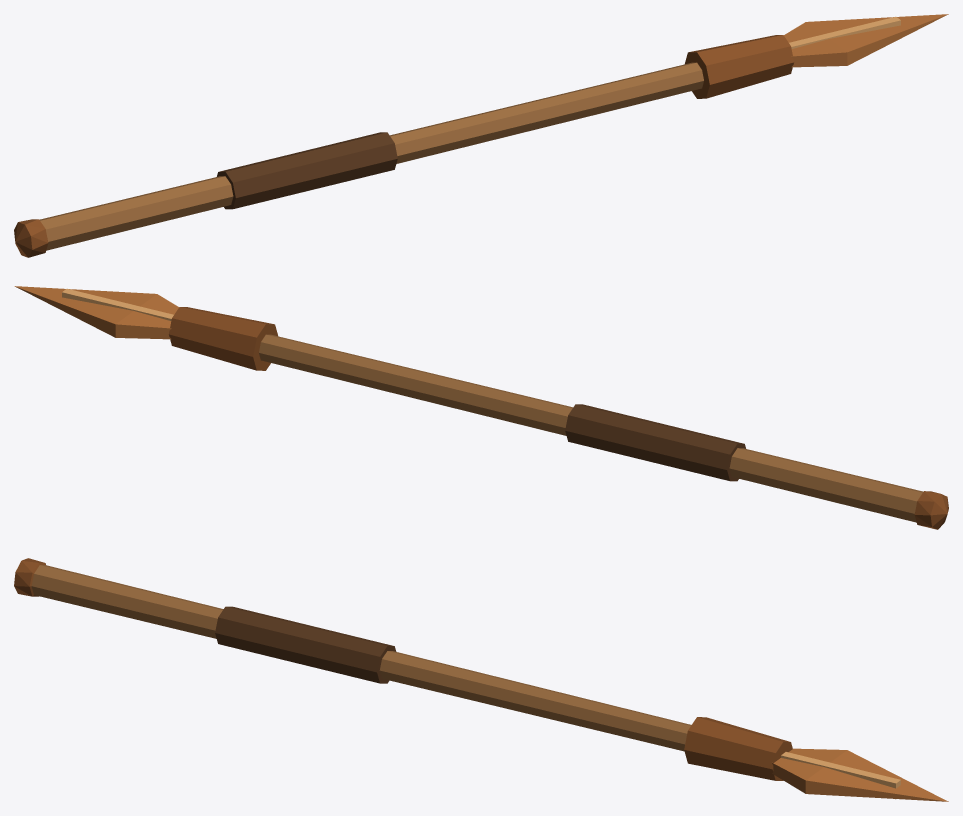
File: drop_bronze_spear.glb
3 views of the same model, one above another, from view 1: azimuth 30°, elevation 25°; view 2: azimuth 150°, elevation 25°; view 3: azimuth 330°, elevation 25° (orthographic).
Visible parts, largest first — view 1: drop_bronze_spear; view 2: drop_bronze_spear; view 3: drop_bronze_spear.
Boxes of the visible parts, <box> form: drop_bronze_spear: <box>14,14,948,257</box>; drop_bronze_spear: <box>14,286,948,529</box>; drop_bronze_spear: <box>14,558,948,801</box>.
Bounding box in the file's own units: 0.843 × 0.0403 × 0.065.
